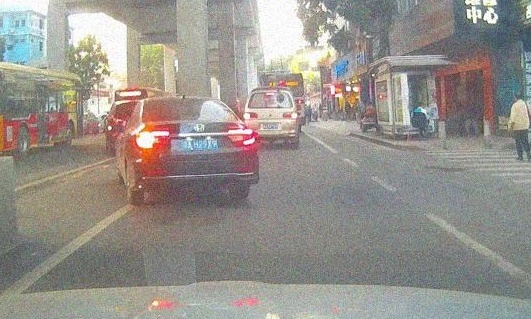L_light: (135, 130, 170, 149)
R_light: (227, 128, 256, 145)
T_light: (182, 99, 197, 103)
day-left: (130, 95, 260, 204)
